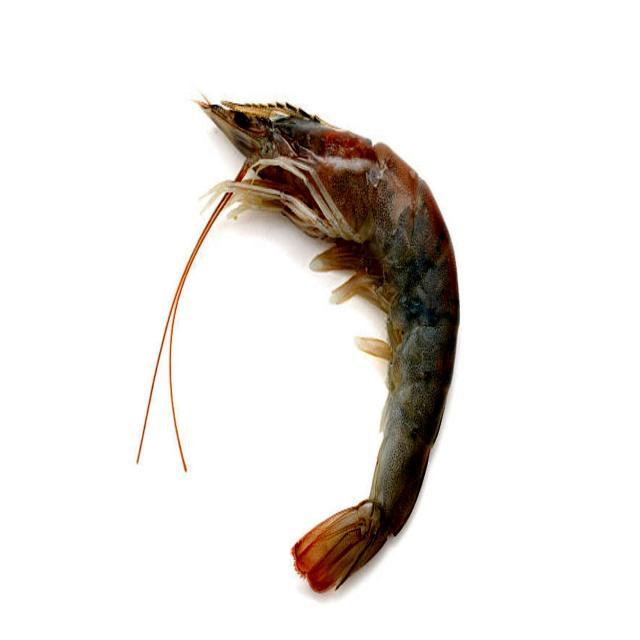shrimp: (199, 102, 458, 590)
